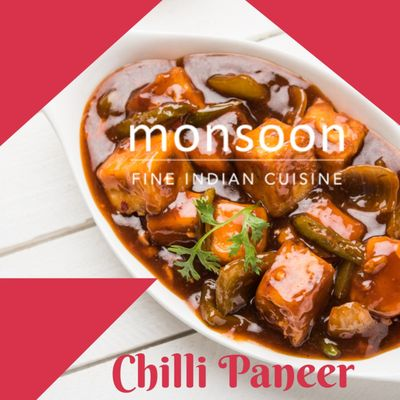sushi: (77, 6, 400, 296)
